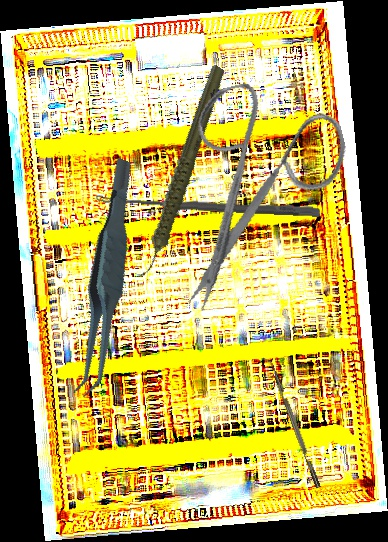Chopper: (261, 354, 321, 491)
Handpiece: (93, 62, 266, 282)
Iris Scissors: (140, 63, 376, 313)
Surgical Spoon: (94, 194, 321, 217)
Tissue Forceps: (29, 157, 182, 401)
